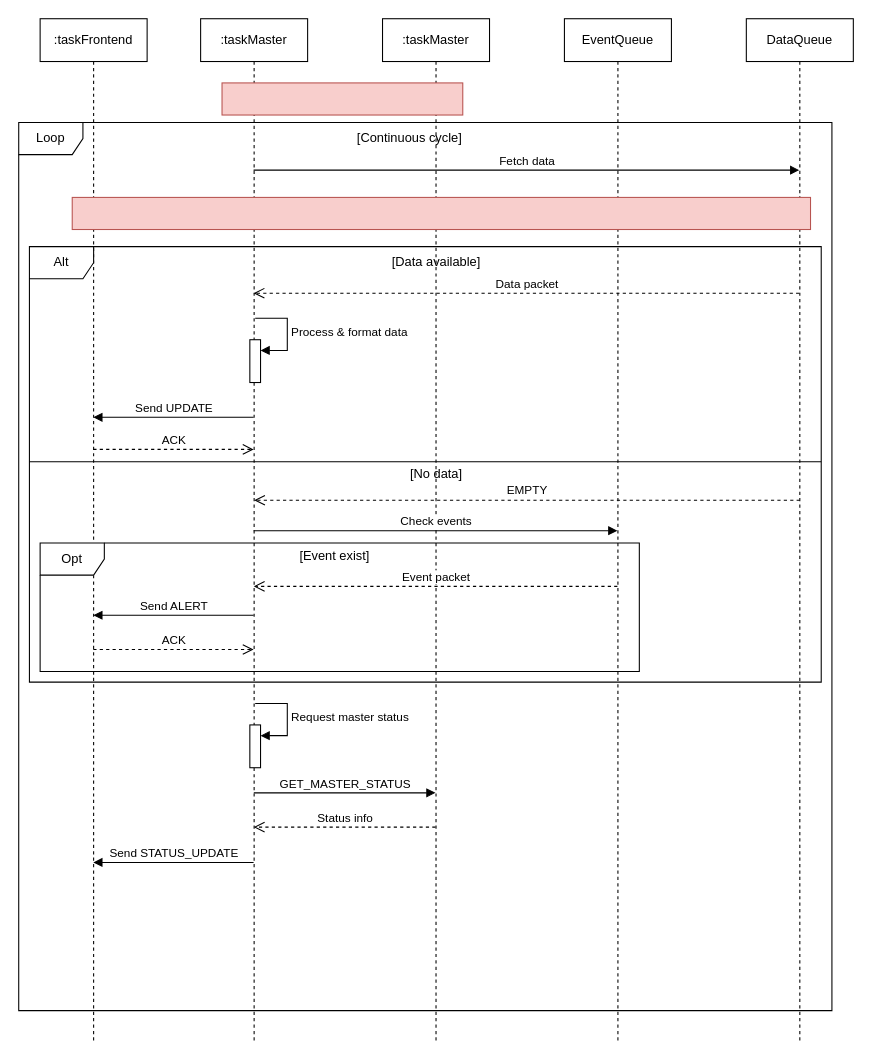
This 872x1061 diagram has some shape labels left out. Here are the shapes that lost their labels. From the top down, the centre of each, then its label:
the point at 342,98: BACKEND-FRONTEND CYCLE
the point at 441,213: Timeout = 10ms
